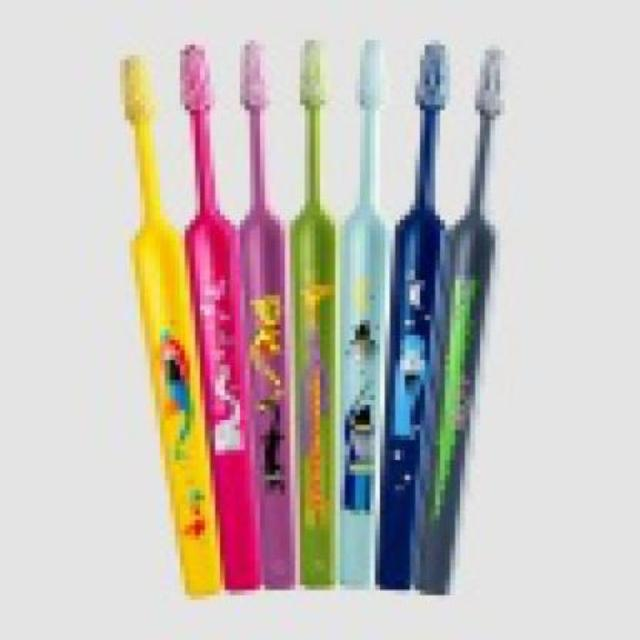toothbrush: (88, 46, 240, 602)
